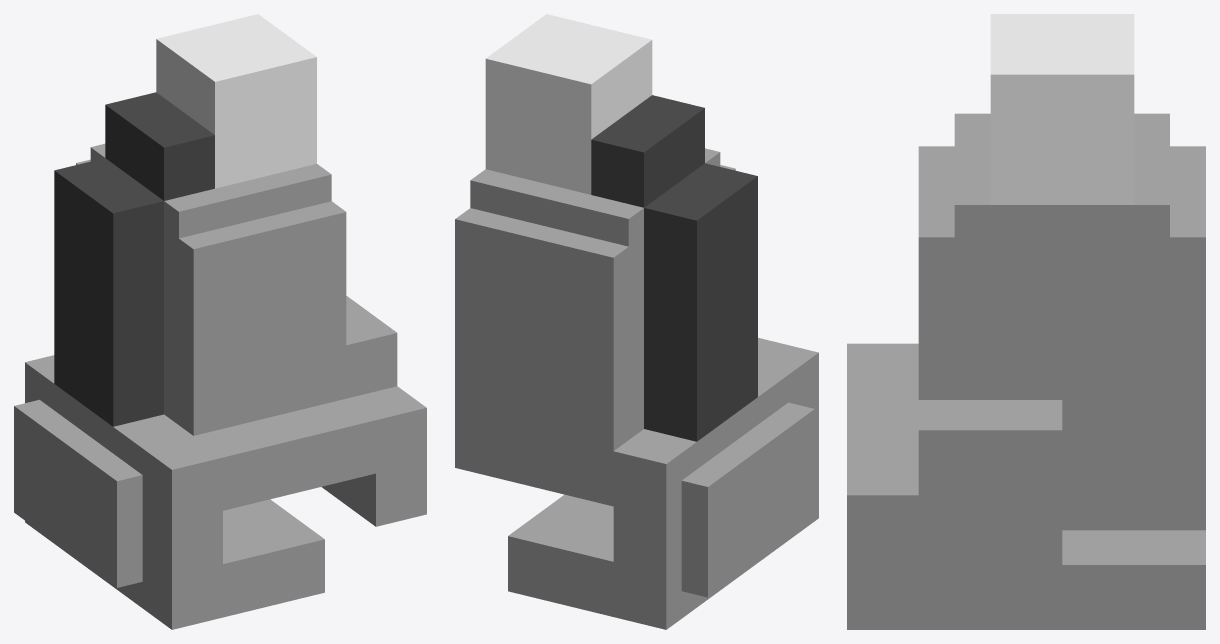
Rendered from PlayerDark-7-Player_RHand.obj.
3 views of the same model, side by side, from view 1: azimuth 30°, elevation 25°; view 2: azimuth 150°, elevation 25°; view 3: azimuth 270°, elevation 25° (orthographic). The views are drawn at different scales.
Visible parts, largest first — view 1: Player_RHand; view 2: Player_RHand; view 3: Player_RHand.
Part boxes in pixels (bbox=[...]): Player_RHand: bbox=[14, 14, 426, 629]; Player_RHand: bbox=[455, 14, 818, 629]; Player_RHand: bbox=[847, 14, 1205, 629].
Size of the model in its own units: 1.1 by 1.8 by 1.
1 material, 1 textured.
